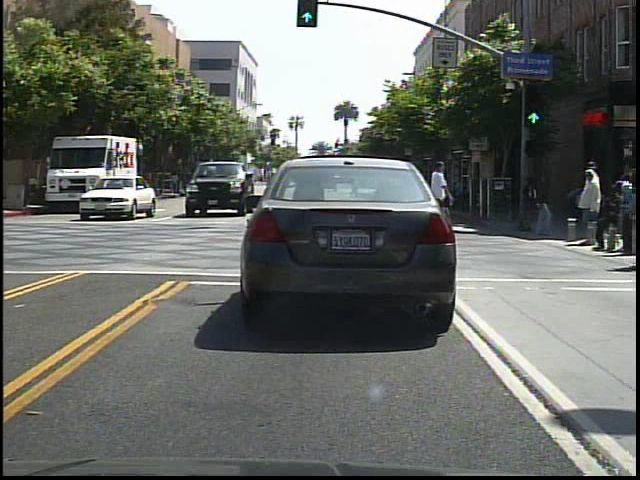person: (423, 149, 460, 245), (520, 169, 554, 238), (526, 170, 559, 241), (580, 166, 604, 253)
